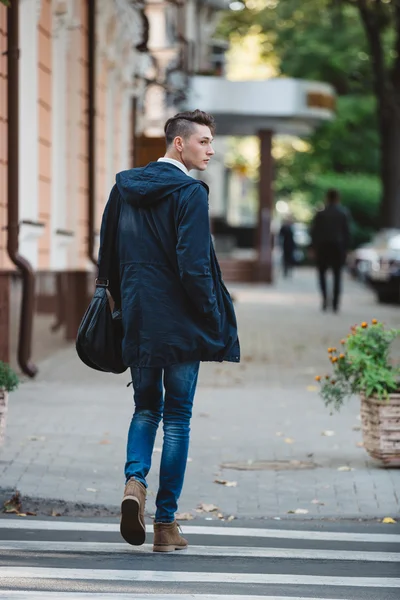person: (72, 108, 241, 555)
